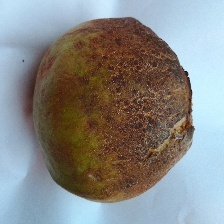guava: (17, 8, 178, 209)
